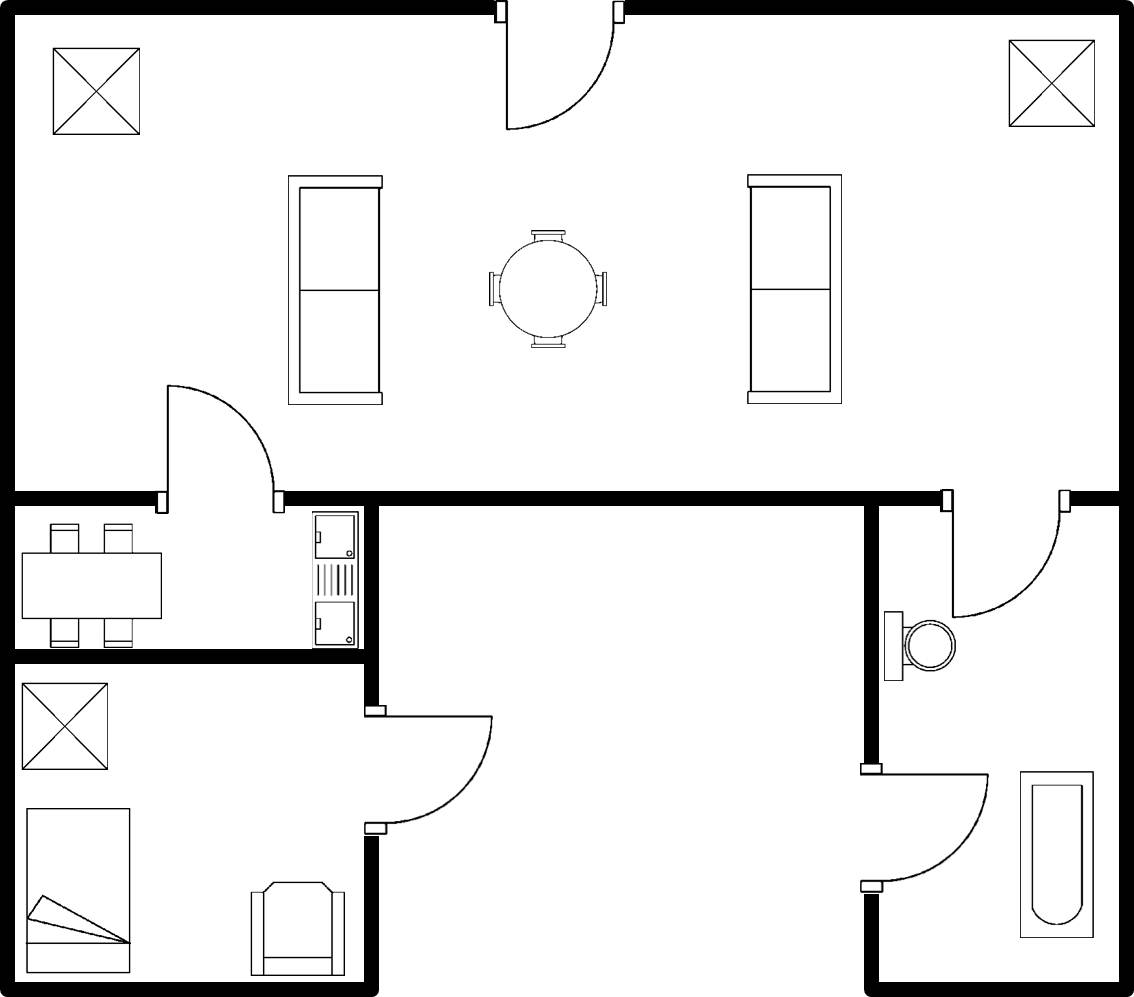armchair: (241, 872, 356, 980)
bed: (21, 798, 141, 980)
coffee_table: (44, 41, 148, 143), (1002, 32, 1102, 135), (17, 675, 116, 778)
dining_table: (19, 516, 175, 650)
large_sink: (879, 606, 960, 689)
large_sofa: (742, 167, 851, 412), (282, 166, 387, 413)
round_table: (480, 221, 617, 357)
tub: (1014, 766, 1099, 947)
twin_sink: (305, 506, 362, 651)
